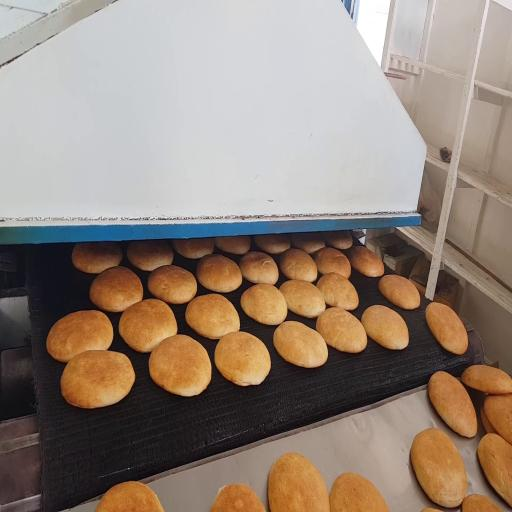bread: (411, 429, 467, 507), (61, 351, 135, 408), (149, 335, 211, 396), (268, 453, 329, 511), (47, 311, 113, 362), (429, 372, 477, 437), (119, 299, 177, 352), (215, 332, 270, 386), (274, 321, 327, 367), (186, 294, 239, 339), (90, 267, 143, 312), (478, 434, 511, 506), (316, 308, 367, 353), (330, 473, 389, 511), (426, 302, 468, 355), (362, 305, 408, 349), (96, 482, 163, 511), (241, 284, 287, 325), (148, 266, 197, 304), (280, 280, 325, 318), (196, 255, 242, 292), (72, 242, 122, 274), (126, 240, 174, 272), (317, 273, 358, 310), (211, 484, 265, 511), (462, 365, 511, 394), (379, 275, 420, 309), (484, 394, 511, 444), (239, 252, 278, 284), (280, 249, 317, 282), (350, 247, 384, 277), (315, 248, 350, 277), (172, 238, 214, 259), (291, 233, 325, 254), (254, 235, 290, 254), (462, 494, 502, 511), (215, 236, 250, 255), (323, 231, 352, 249), (480, 406, 496, 433), (422, 508, 440, 511)
